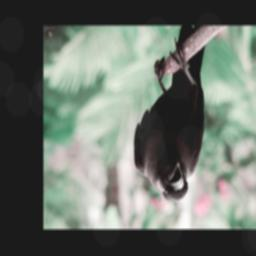Crow: (134, 27, 207, 203)
